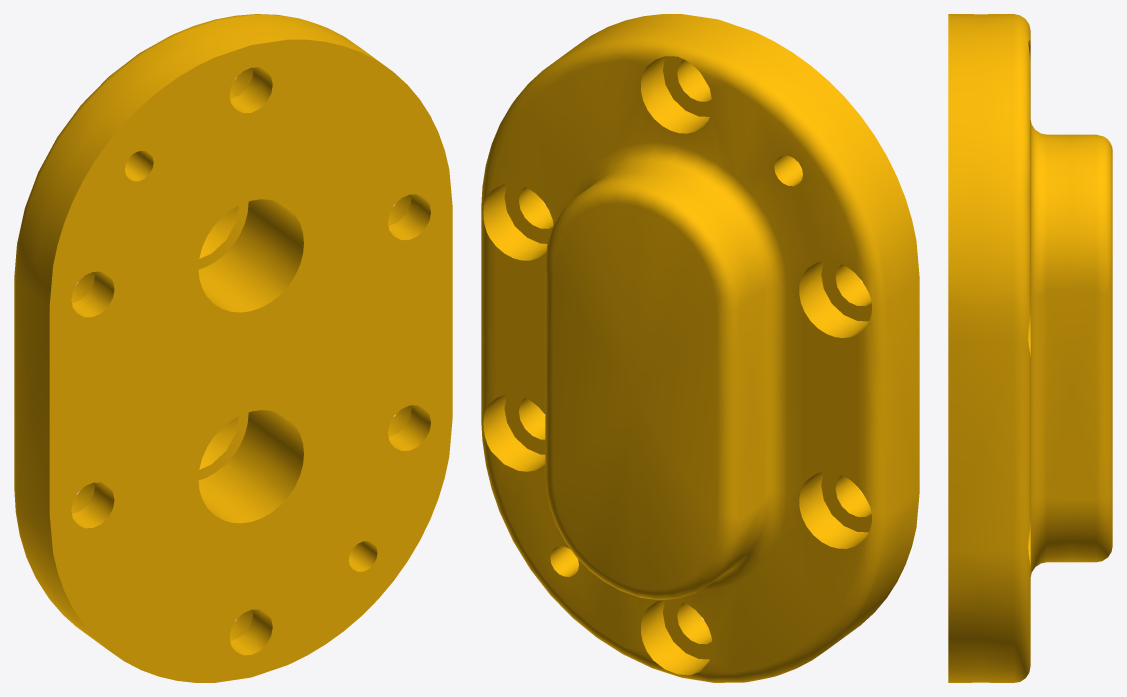
3 views of the same model, side by side, from view 1: azimuth 30°, elevation 25°; view 2: azimuth 150°, elevation 25°; view 3: azimuth 270°, elevation 25° (orthographic).
Visible parts, largest first — view 1: 三维立体; view 2: 三维立体; view 3: 三维立体.
Part boxes in pixels (<box>): 三维立体: <box>14,14,452,682</box>; 三维立体: <box>481,14,919,682</box>; 三维立体: <box>948,14,1112,682</box>.
Bounding box in the file's own units: 84 × 30 × 126.
